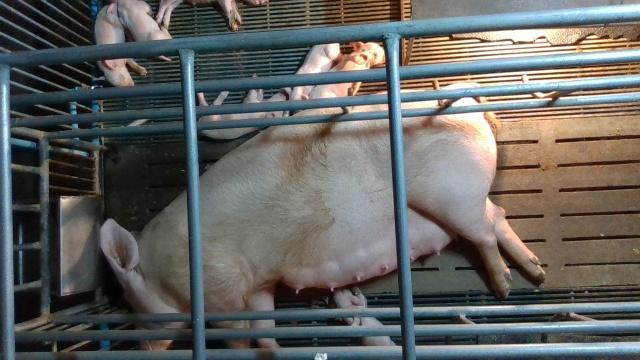piglet: (198, 73, 289, 139), (94, 4, 147, 86), (309, 42, 385, 98), (285, 43, 344, 115), (334, 286, 397, 346), (119, 0, 172, 60)
sow-sleep-lactate: (99, 82, 546, 351)
